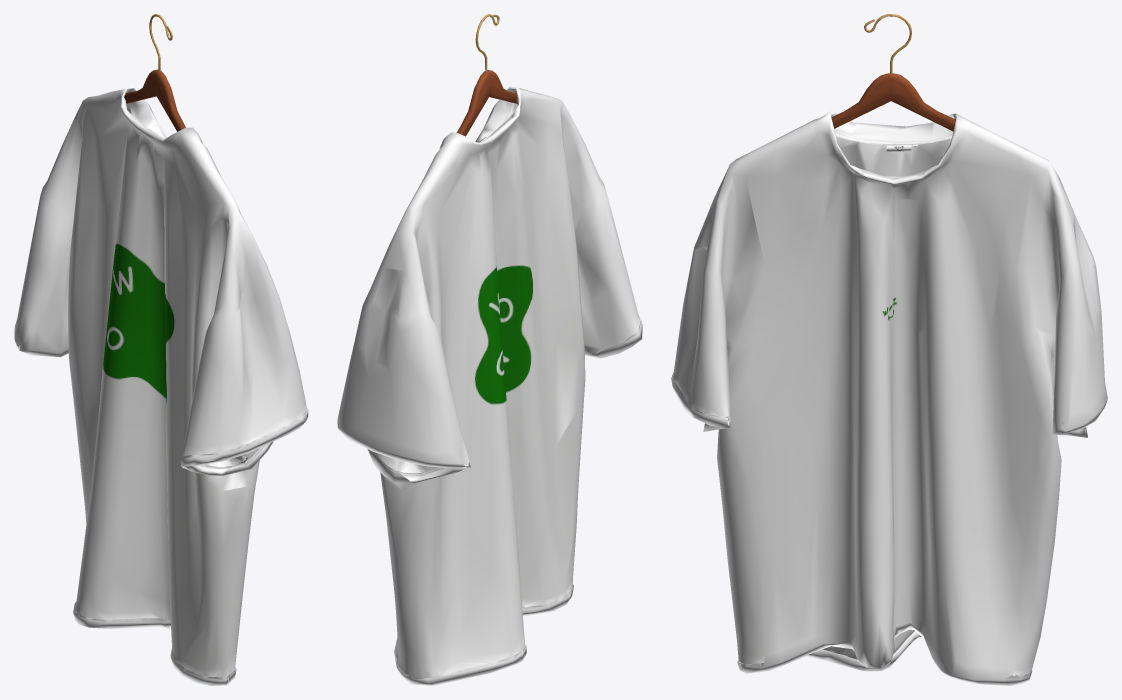
File: 37_Hanger1.glb
3 renders of one model, left to right at view 1: azimuth 30°, elevation 25°; view 2: azimuth 150°, elevation 25°; view 3: azimuth 270°, elevation 25°, orthographic. The views are drawn at different scales.
Parts seen in each view (by area): view 1: Hanger; view 2: Hanger; view 3: Hanger.
Boxes of the visible parts, <box> form: Hanger: <box>14,14,308,685</box>; Hanger: <box>337,14,642,685</box>; Hanger: <box>671,14,1107,685</box>.
Size of the model in its own units: 0.2048 by 0.8857 by 0.53.
5 materials, 5 textured.
